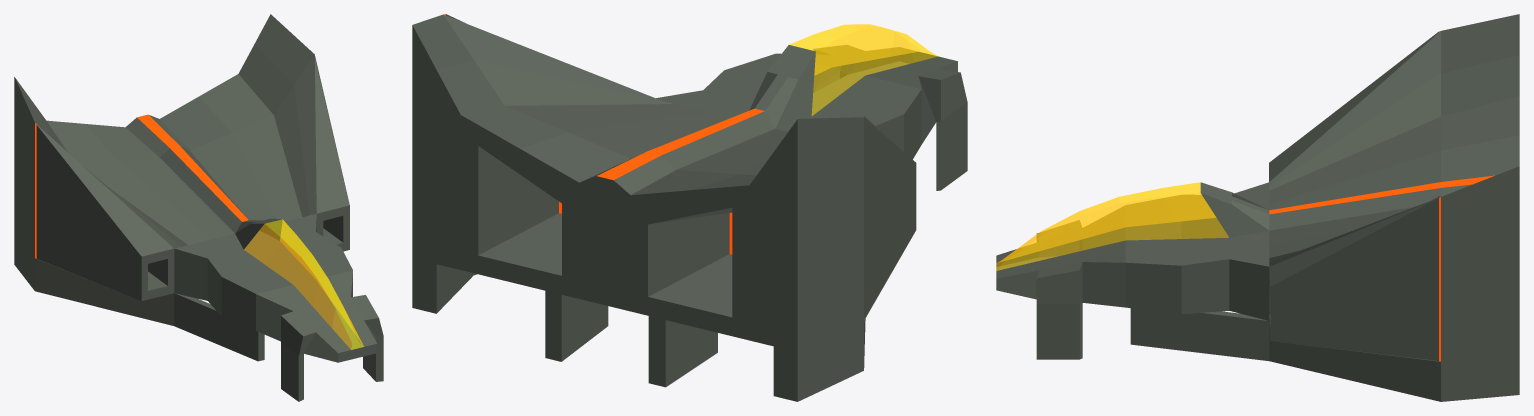
File: jetcar.fbx
3 views of the same model, side by side, from view 1: azimuth 30°, elevation 25°; view 2: azimuth 150°, elevation 25°; view 3: azimuth 270°, elevation 25° (orthographic). The views are drawn at different scales.
Visible parts, largest first — view 1: Cube; view 2: Cube; view 3: Cube.
Boxes of the visible parts, bbox=[...] form: Cube: bbox=[14, 14, 383, 401]; Cube: bbox=[412, 14, 967, 401]; Cube: bbox=[996, 14, 1519, 401].
Bounding box in the file's own units: 8.06 × 5.53 × 10.74.
